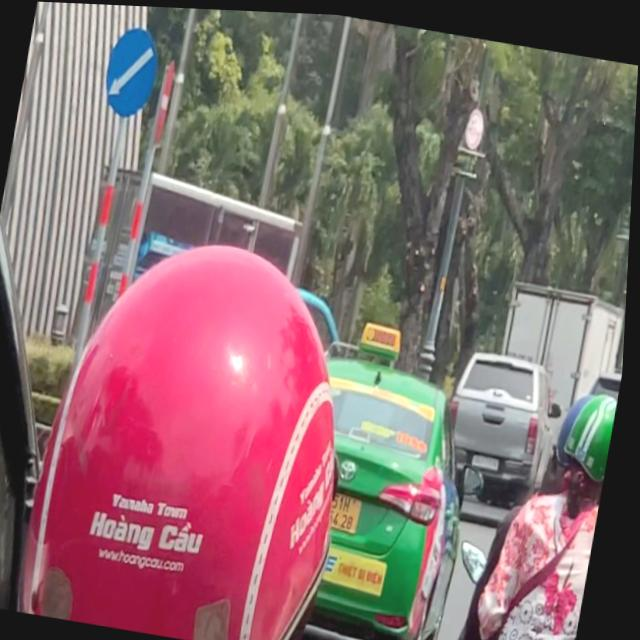Vong chuong ngai vat sang trai: (97, 15, 167, 124)
